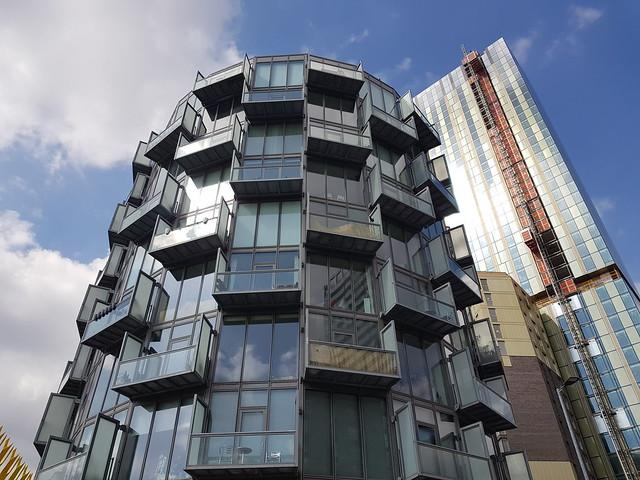building: (29, 50, 616, 480)
